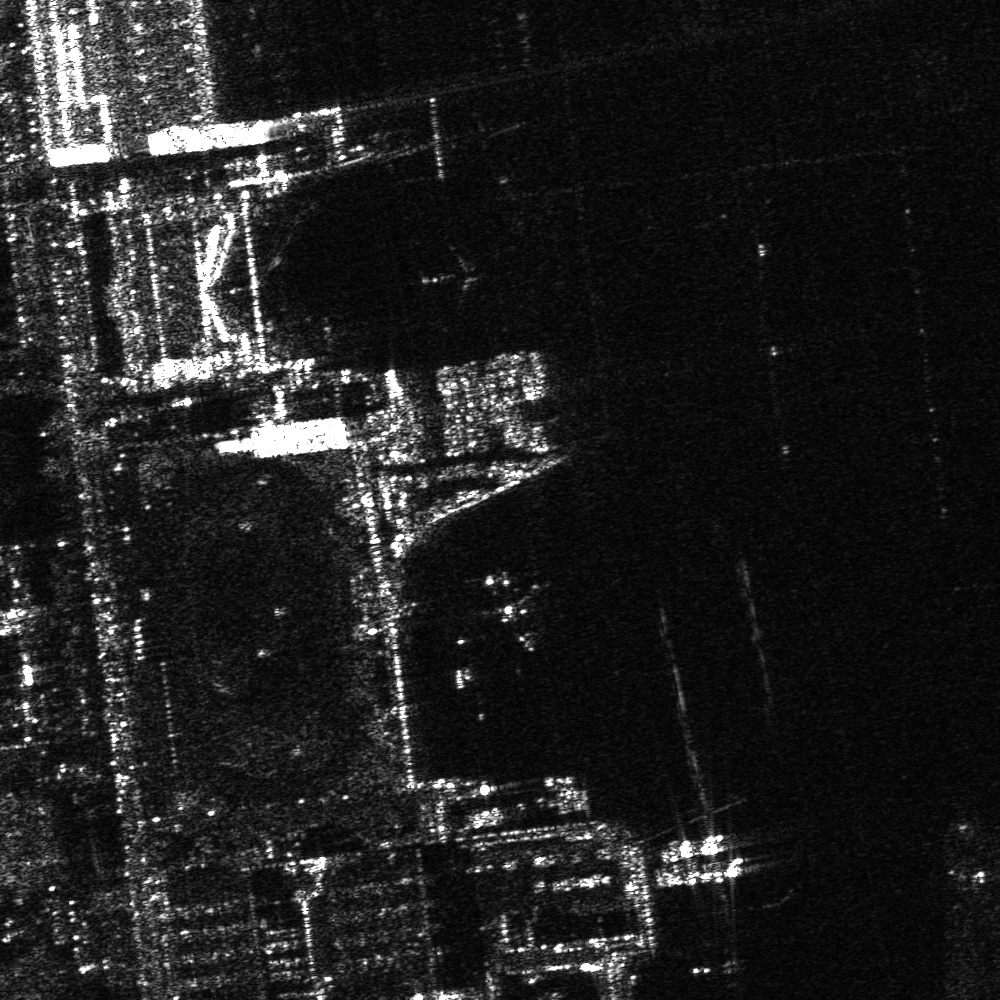Boeing787: (457, 559, 549, 654)
other: (415, 241, 497, 305)
